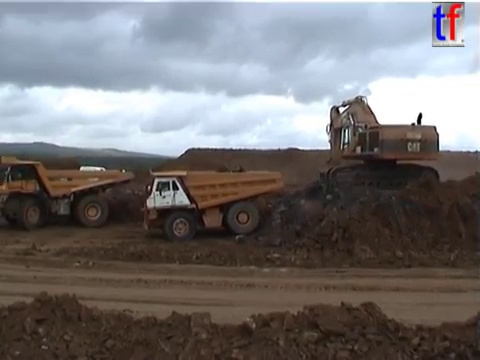excavator: (316, 92, 443, 196)
truck: (140, 166, 285, 243), (1, 153, 137, 232)
worker: (119, 166, 127, 185)
